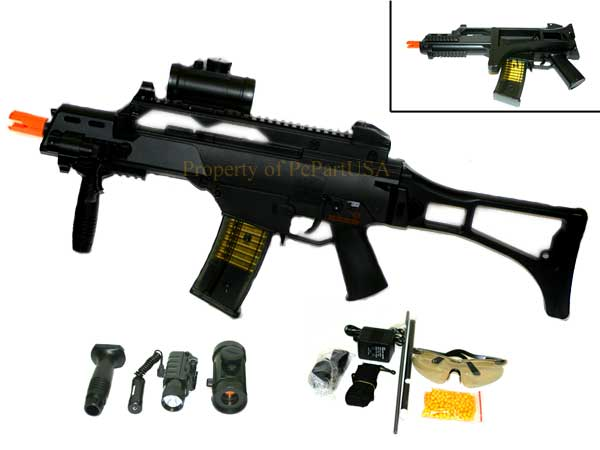rifle: (10, 54, 581, 334)
